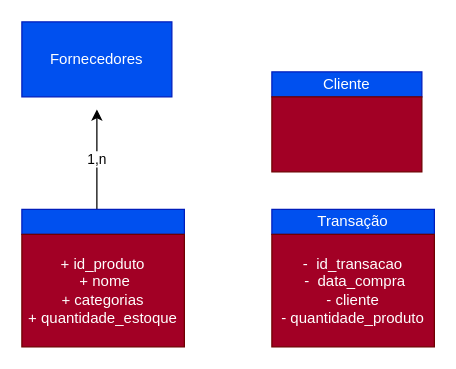
The diagram is 456 pixels wide and 369 high, and some of its shapes have lost their labels. The shapes that lost their labels are listed below. From the top down, each one's centre as x and y in pixels, then its label:
(346,134): - id_cliente - nome - telefone - endereco
(102,221): Produto
